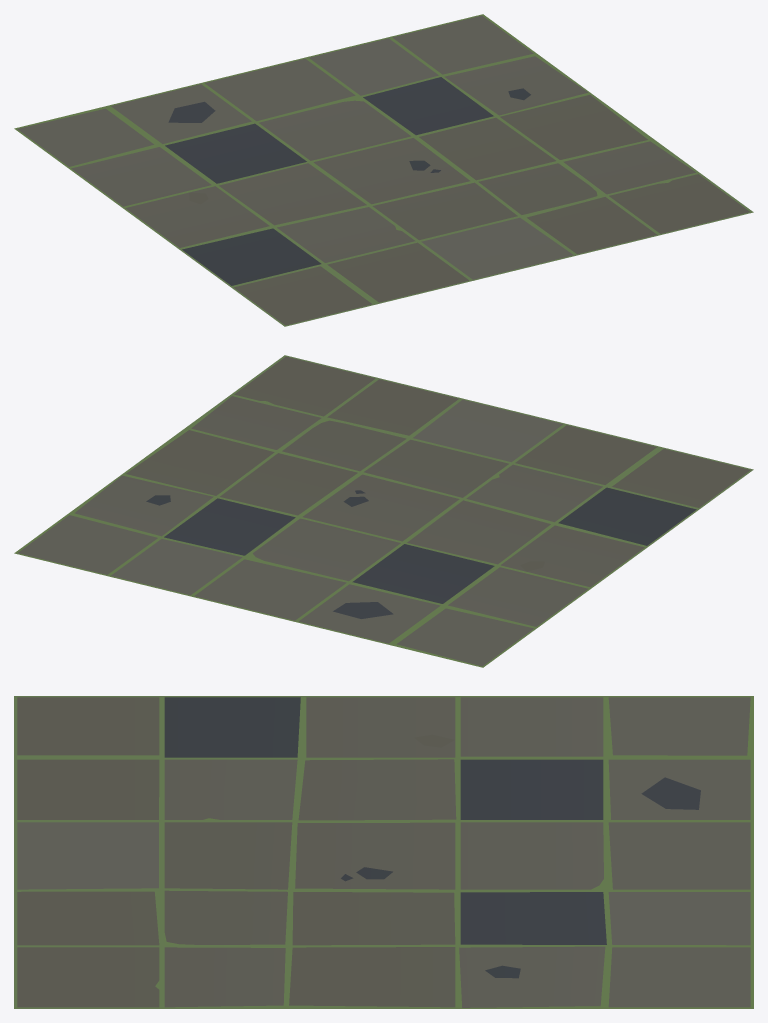
File: Tile_07.fbx
The picture shows the model from 3 angles, top to bottom: view 1: azimuth 30°, elevation 25°; view 2: azimuth 150°, elevation 25°; view 3: azimuth 270°, elevation 25°; orthographic projection. The views are drawn at different scales.
Visible parts, largest first — view 1: Tile_07; view 2: Tile_07; view 3: Tile_07.
Boxes of the visible parts, x1,y1,x2,y2 form: Tile_07: [14, 14, 753, 326]; Tile_07: [14, 355, 753, 667]; Tile_07: [14, 696, 753, 1008].
Bounding box in the file's own units: 3 × 0 × 3.
